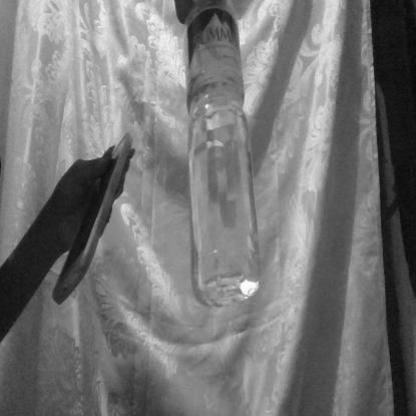Plastic Bottle: (186, 3, 263, 303)
